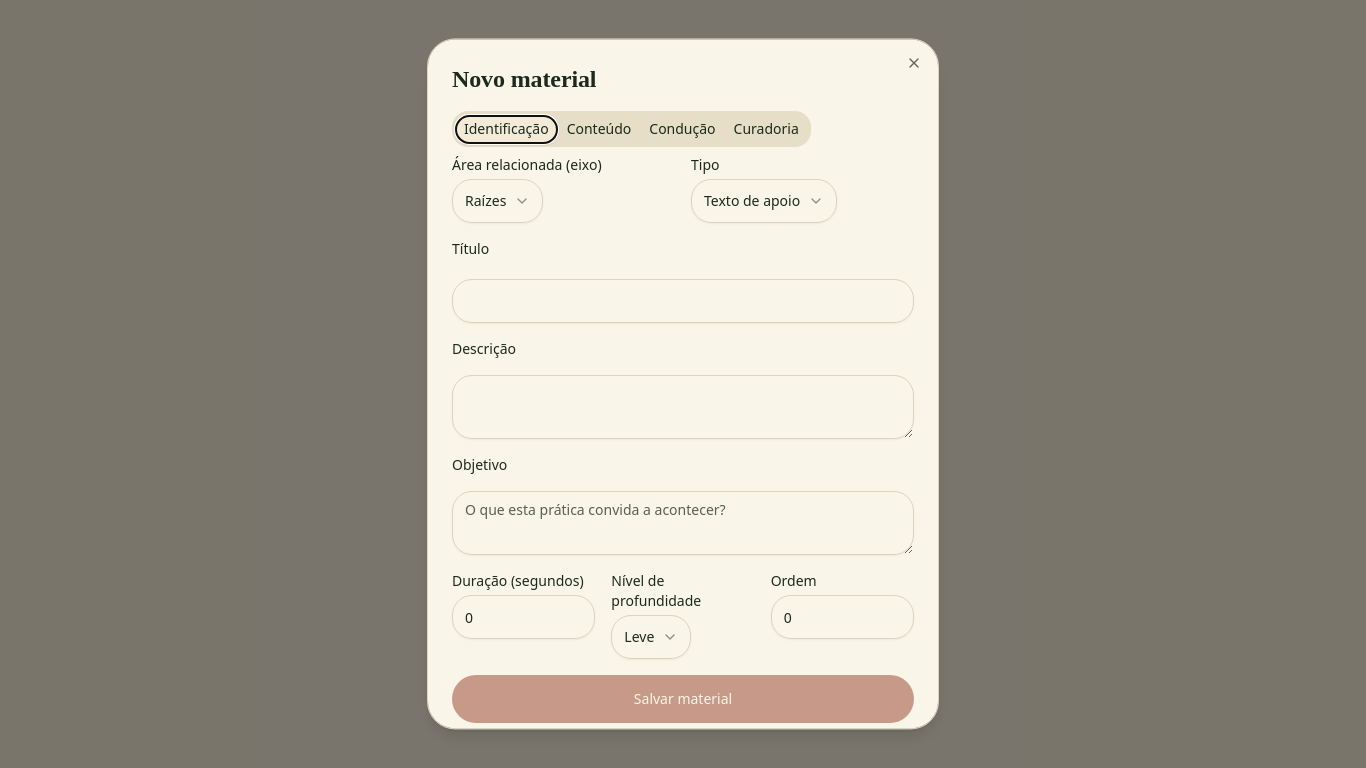
Test: ConteudoFormDialog › mantém 'Salvar material' desabilitado até o título ser preenchido
expect the button "Salvar material" is disabled: met, box [452,675,914,723]
Type "Carta à criança" into the field labelled "Título" at (683, 301), box [452,279,914,323]
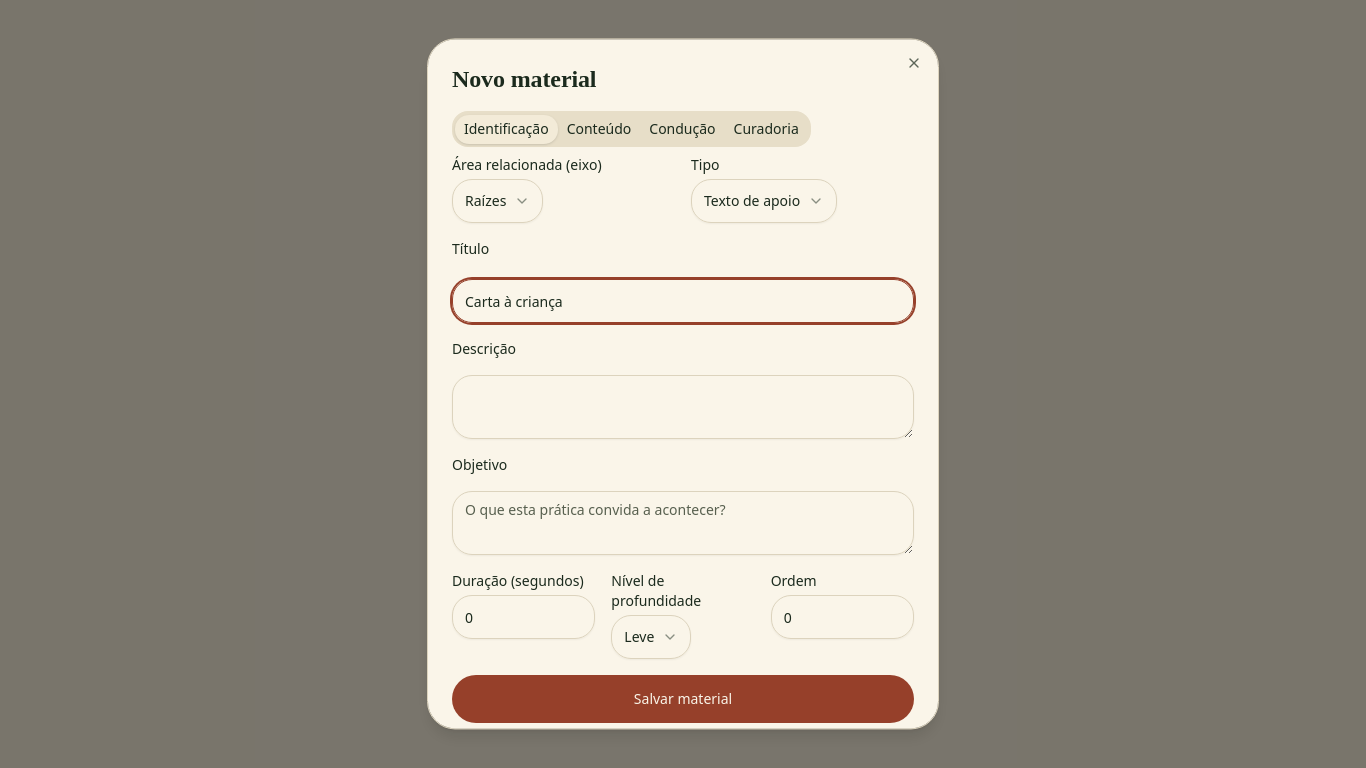
expect the button "Salvar material" is enabled: met, box [452,675,914,723]
